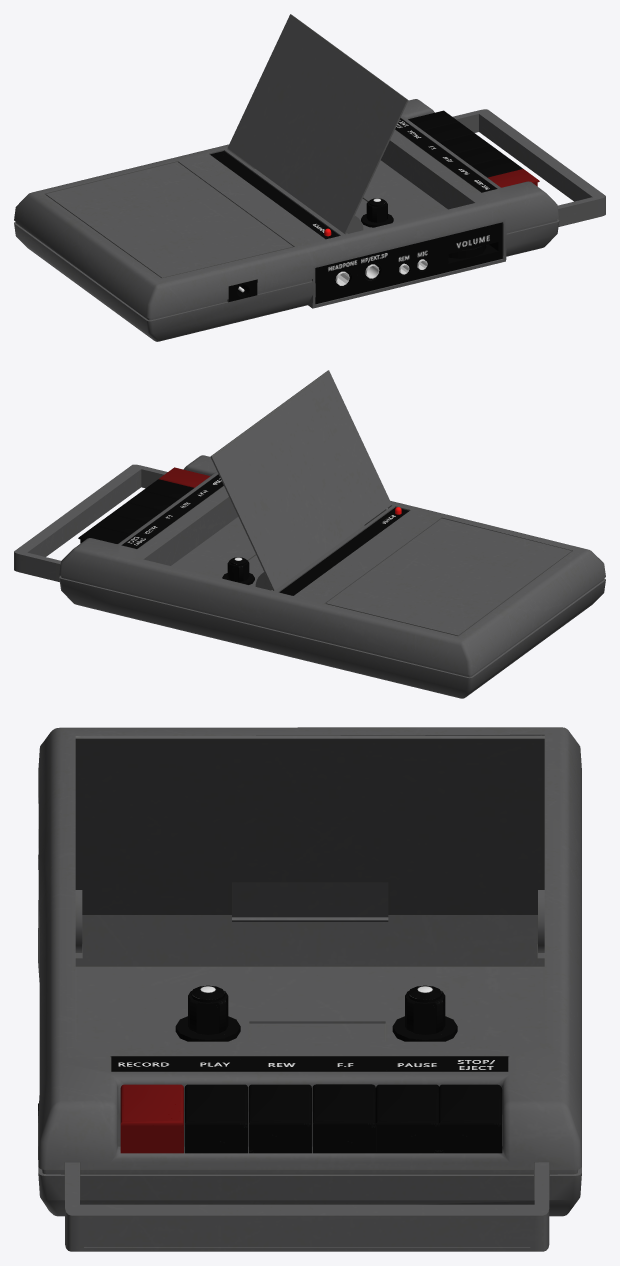
3 renders of one model, top to bottom at view 1: azimuth 30°, elevation 25°; view 2: azimuth 150°, elevation 25°; view 3: azimuth 270°, elevation 25°, orthographic. The views are drawn at different scales.
Visible parts, largest first — view 1: Cassete_player_Body__LOD0, Cassete_player_Top_LOD0, Button2_LOD0, Button3_LOD0, Button4_LOD0, Button5_LOD0, Button6_LOD0, Button1_LOD0; view 2: Cassete_player_Body__LOD0, Cassete_player_Top_LOD0, Button1_LOD0, Button3_LOD0, Button2_LOD0, Button4_LOD0, Button5_LOD0, Button6_LOD0; view 3: Cassete_player_Body__LOD0, Cassete_player_Top_LOD0, Button3_LOD0, Button4_LOD0, Button2_LOD0, Button1_LOD0, Button5_LOD0, Button6_LOD0.
Part boxes in pixels (bbox=[...]): Cassete_player_Body__LOD0: bbox=[14, 99, 605, 341]; Cassete_player_Top_LOD0: bbox=[227, 14, 408, 234]; Button2_LOD0: bbox=[472, 157, 522, 177]; Button3_LOD0: bbox=[455, 145, 506, 165]; Button4_LOD0: bbox=[439, 133, 490, 153]; Button5_LOD0: bbox=[424, 122, 474, 142]; Button6_LOD0: bbox=[408, 110, 458, 130]; Button1_LOD0: bbox=[488, 169, 539, 187]; Cassete_player_Body__LOD0: bbox=[14, 455, 605, 698]; Cassete_player_Top_LOD0: bbox=[210, 370, 391, 590]; Button1_LOD0: bbox=[159, 467, 210, 487]; Button3_LOD0: bbox=[127, 491, 177, 511]; Button2_LOD0: bbox=[142, 479, 193, 499]; Button4_LOD0: bbox=[111, 502, 161, 522]; Button5_LOD0: bbox=[95, 514, 146, 534]; Button6_LOD0: bbox=[78, 526, 130, 543]; Cassete_player_Body__LOD0: bbox=[38, 727, 581, 1251]; Cassete_player_Top_LOD0: bbox=[75, 736, 544, 952]; Button3_LOD0: bbox=[248, 1084, 311, 1153]; Button4_LOD0: bbox=[312, 1084, 375, 1153]; Button2_LOD0: bbox=[184, 1084, 247, 1153]; Button1_LOD0: bbox=[120, 1084, 183, 1153]; Button5_LOD0: bbox=[376, 1084, 439, 1153]; Button6_LOD0: bbox=[439, 1084, 502, 1153].
Size of the model in its own units: 3.65 by 1.32 by 1.84.
2 materials, 1 textured.
